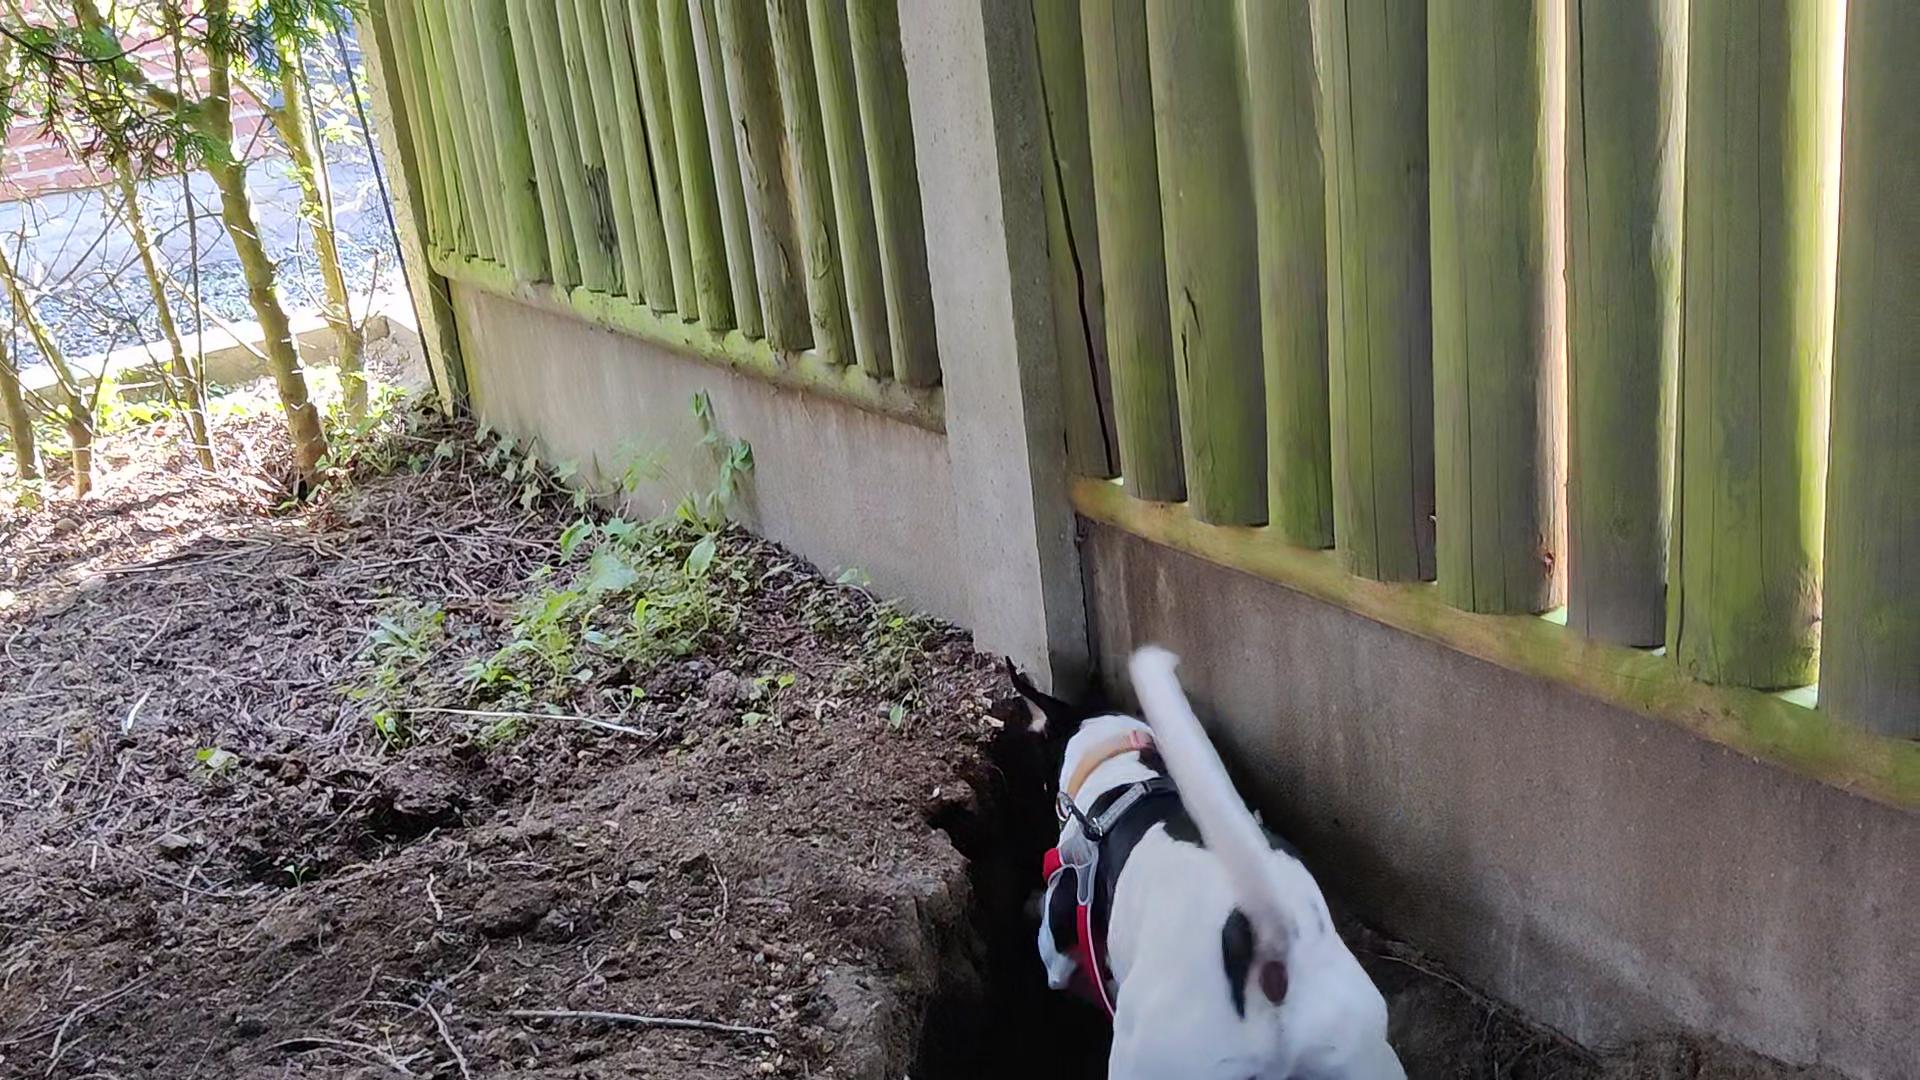Dog: (994, 616, 1449, 1079)
